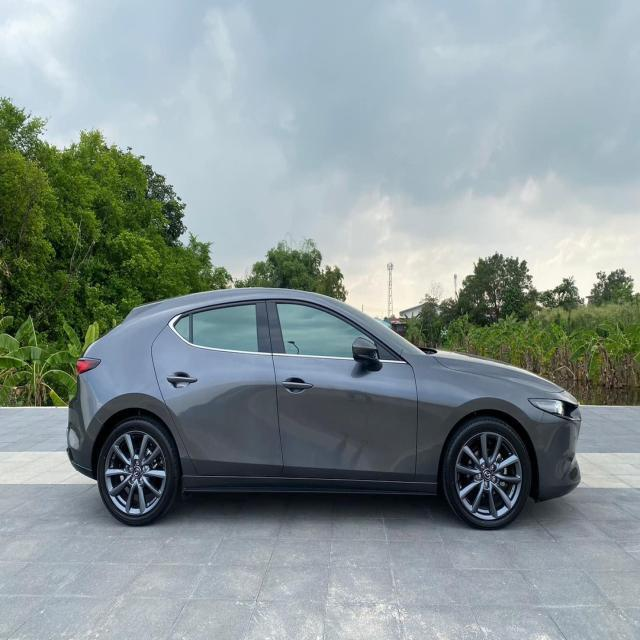Hatchback: (65, 288, 584, 532)
